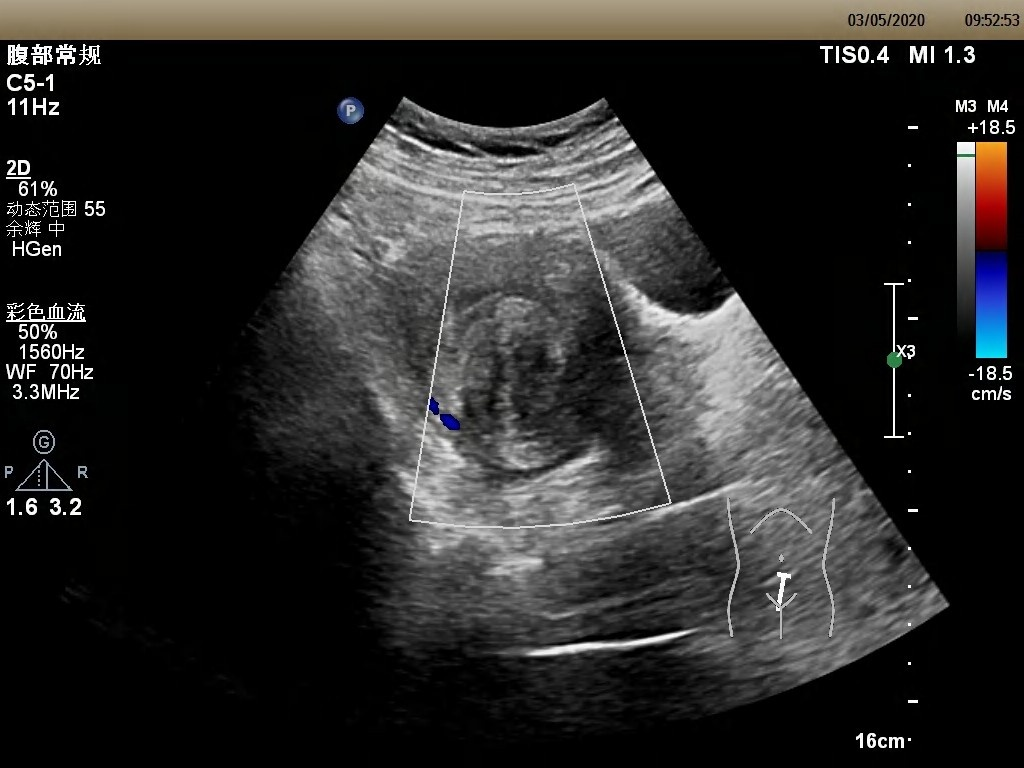肌瘤: (428, 294, 603, 477)
